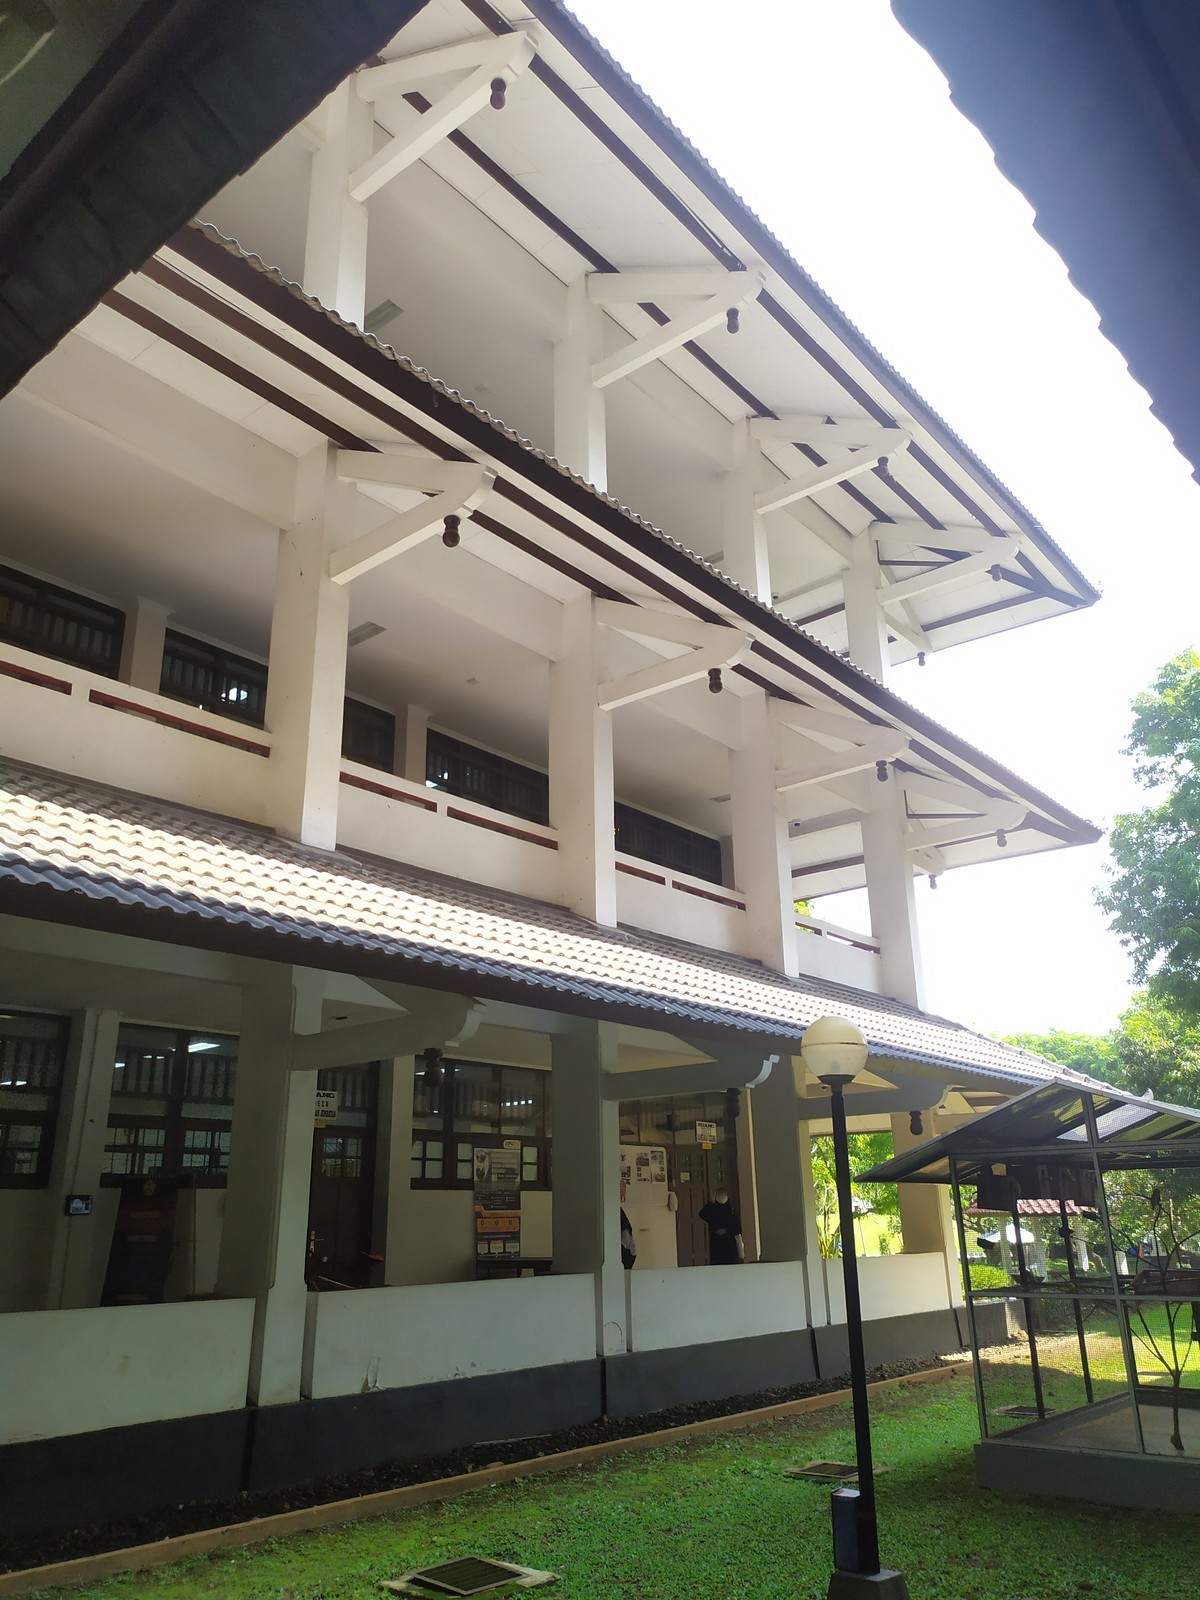concrete beam: (339, 112, 476, 212), (286, 1005, 417, 1089), (315, 515, 447, 591), (587, 320, 711, 391), (589, 651, 706, 719), (744, 459, 856, 522), (591, 1062, 722, 1112), (766, 751, 868, 801)
concrete column: (224, 973, 321, 1422), (260, 455, 363, 850), (539, 1032, 642, 1382), (537, 596, 632, 932), (34, 1002, 125, 1305), (725, 688, 805, 979), (296, 76, 384, 325), (536, 263, 621, 498), (860, 763, 937, 1017), (754, 1089, 823, 1330), (372, 1054, 427, 1289), (713, 414, 779, 609), (839, 525, 904, 695)
